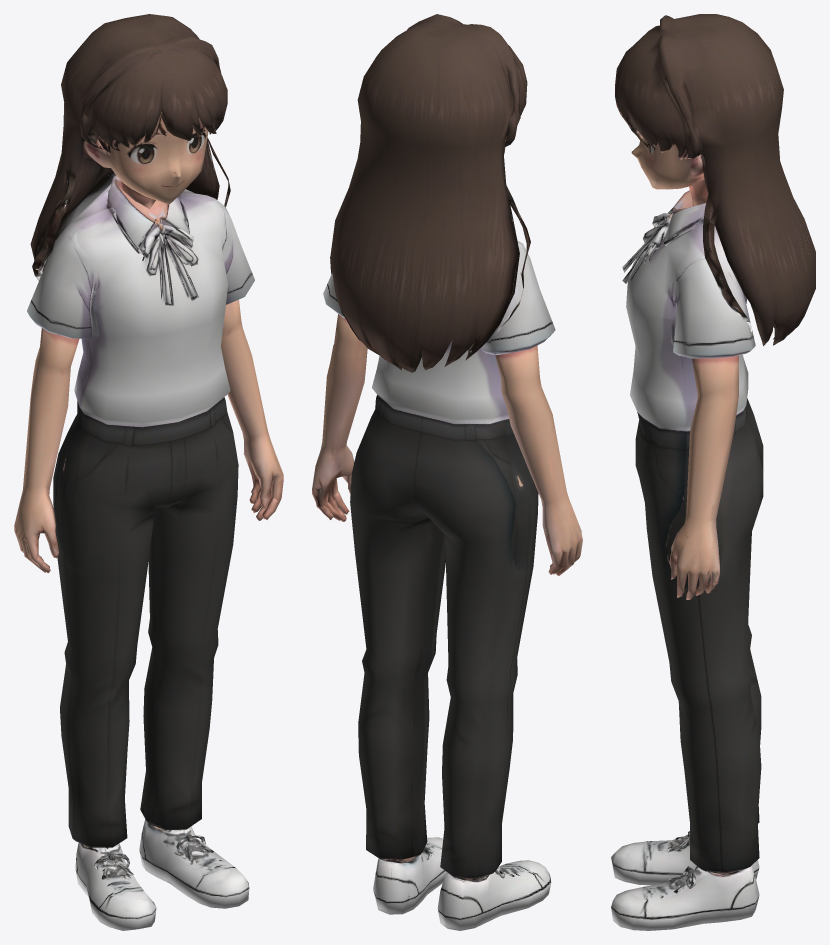
The model's file is friend_girl_sy.glb.
3 views of the same model, side by side, from view 1: azimuth 30°, elevation 25°; view 2: azimuth 150°, elevation 25°; view 3: azimuth 270°, elevation 25° (orthographic).
Parts seen in each view (by area): view 1: tripo_node_4a1300a2-a645-4f6a-8e67-679dd289628f; view 2: tripo_node_4a1300a2-a645-4f6a-8e67-679dd289628f; view 3: tripo_node_4a1300a2-a645-4f6a-8e67-679dd289628f.
Part boxes in pixels (left/top/right/bottom): tripo_node_4a1300a2-a645-4f6a-8e67-679dd289628f: left=14, top=14, right=283, bottom=930; tripo_node_4a1300a2-a645-4f6a-8e67-679dd289628f: left=312, top=14, right=582, bottom=930; tripo_node_4a1300a2-a645-4f6a-8e67-679dd289628f: left=611, top=14, right=815, bottom=930.
Size of the model in its own units: 0.3105 by 0.998 by 0.2129.
1 material, 1 textured.
